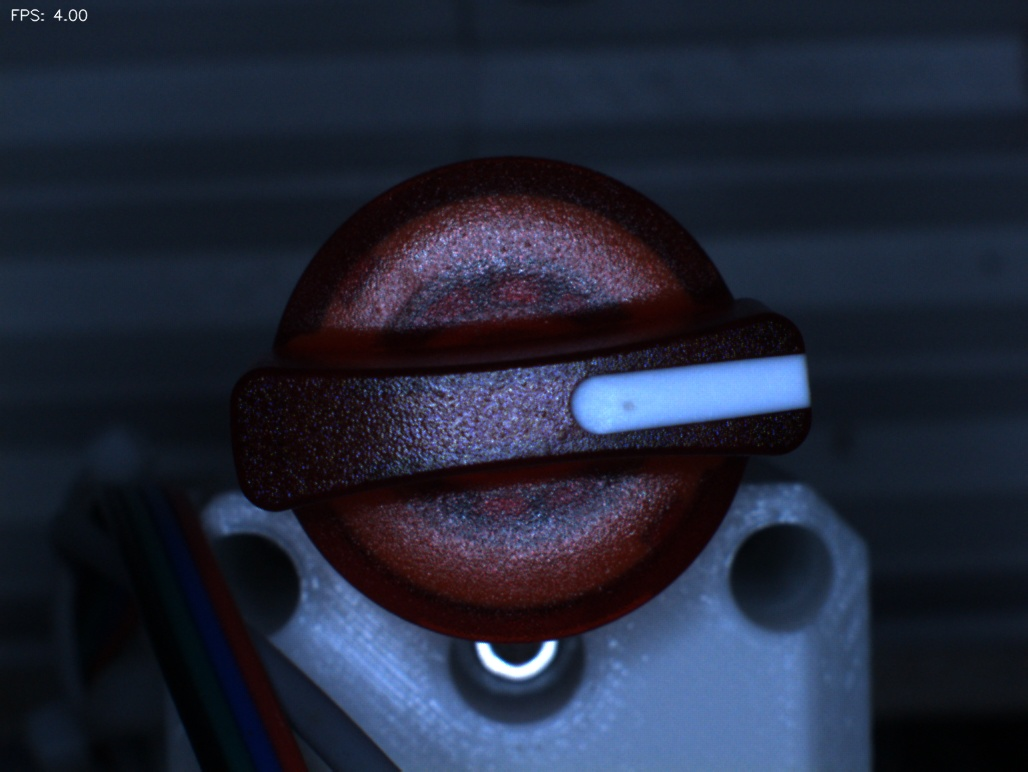PointNoir: (591, 370, 661, 450)
